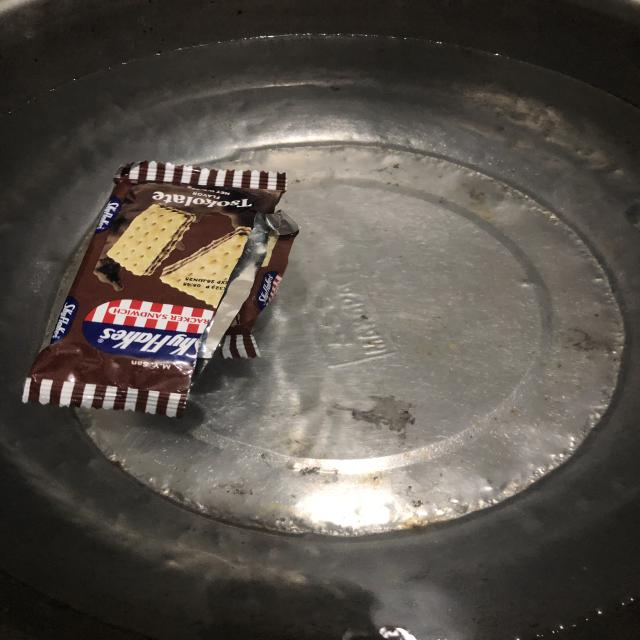Plastic Wrapper: (0, 138, 326, 430)
